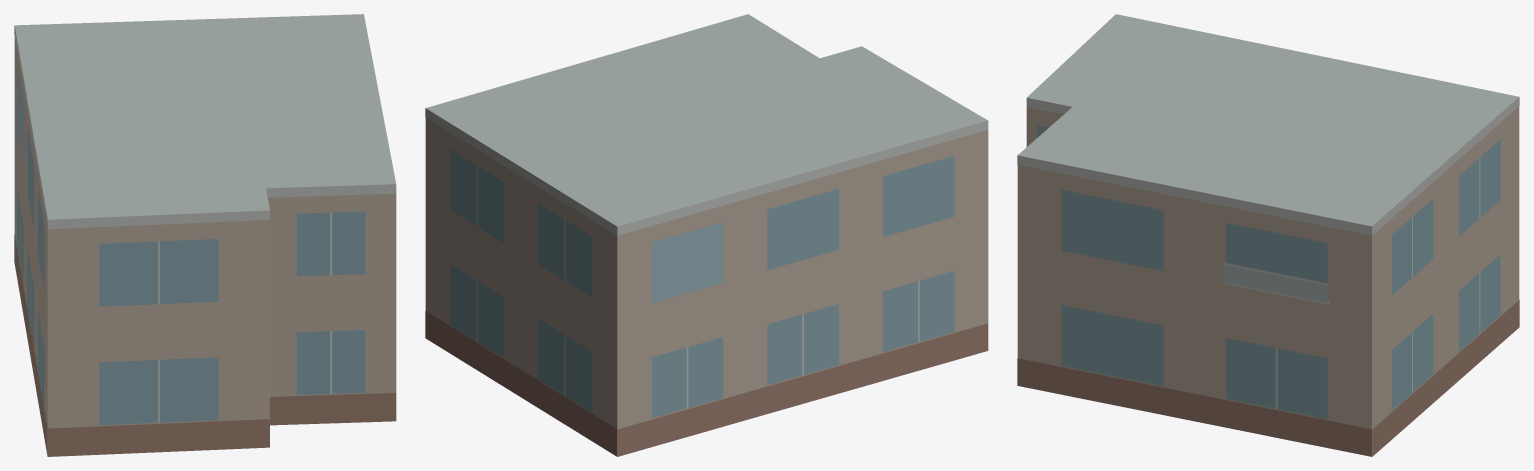
File: survey-upis-32798724.glb
3 renders of one model, left to right at view 1: azimuth 30°, elevation 25°; view 2: azimuth 150°, elevation 25°; view 3: azimuth 270°, elevation 25°, orthographic. The views are drawn at different scales.
Parts seen in each view (by area): view 1: survey-upis-32798724.tmp; view 2: survey-upis-32798724.tmp; view 3: survey-upis-32798724.tmp.
Part boxes in pixels (bbox=[...]): survey-upis-32798724.tmp: bbox=[14, 14, 396, 456]; survey-upis-32798724.tmp: bbox=[425, 14, 988, 456]; survey-upis-32798724.tmp: bbox=[1017, 14, 1519, 456].
Size of the model in its own units: 12.07 by 6.1 by 12.05.
